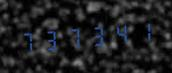four: (110, 17, 132, 48)
one: (133, 15, 155, 46)
seven: (17, 25, 39, 56), (64, 21, 86, 52)
three: (40, 23, 62, 54), (87, 19, 109, 50)
